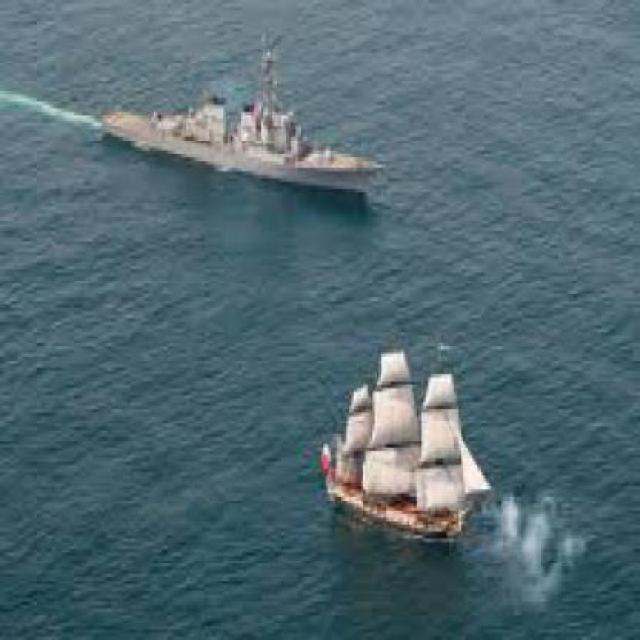warship2: (94, 30, 394, 204)
